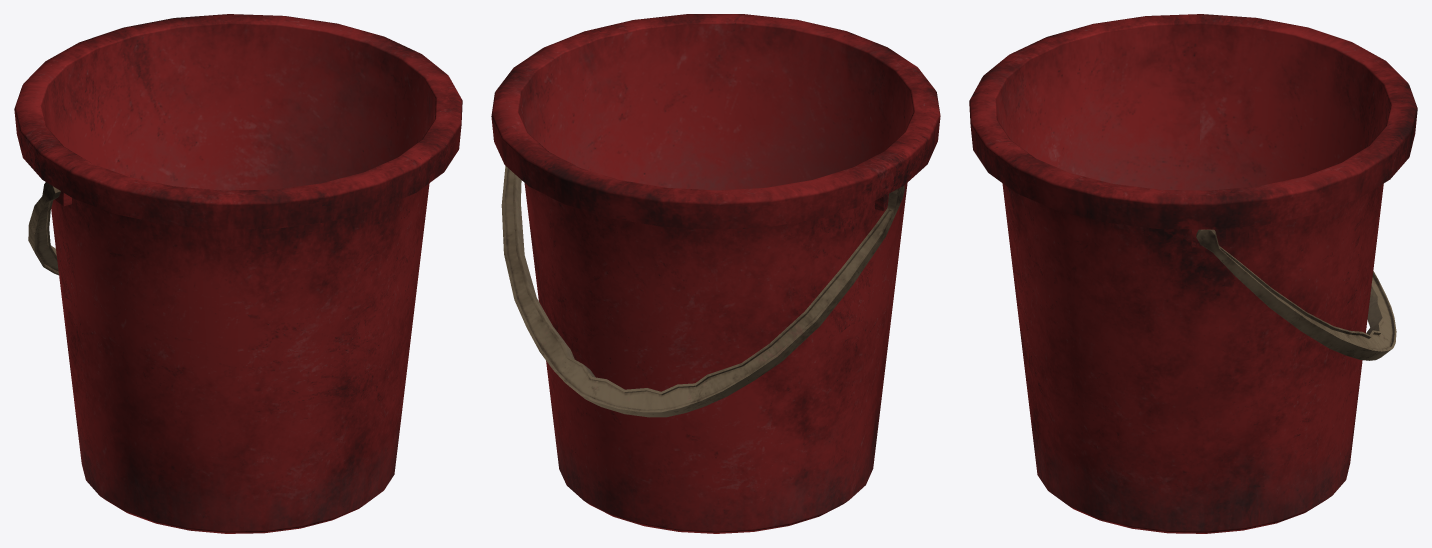
The model's file is Red_Pail.fbx.
The picture shows the model from 3 angles, left to right: view 1: azimuth 30°, elevation 25°; view 2: azimuth 150°, elevation 25°; view 3: azimuth 270°, elevation 25°; orthographic projection.
Visible parts, largest first — view 1: Baldi; view 2: Baldi; view 3: Baldi.
Part boxes in pixels (x1,y1,x2,y2): Baldi: (14,14,462,533); Baldi: (491,14,940,533); Baldi: (969,14,1417,533).
Size of the model in its own units: 51.47 by 46.17 by 51.44.
